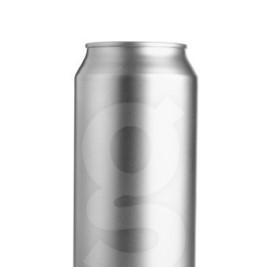beer: (72, 40, 198, 267)
